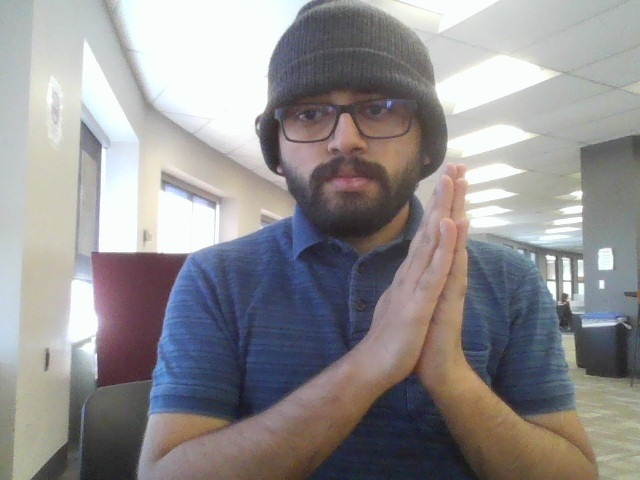start: (348, 162, 505, 388)
